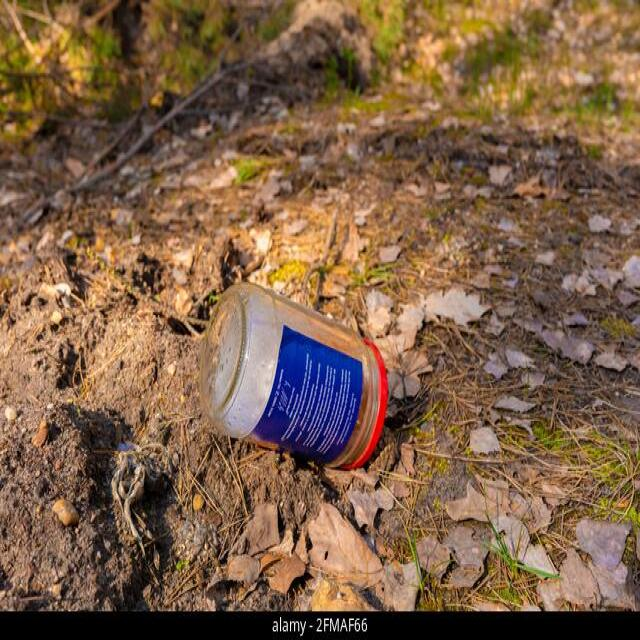glass: (205, 299, 388, 454)
